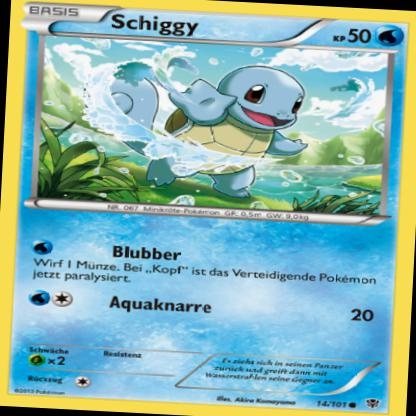Squirtle: (133, 53, 310, 203)
